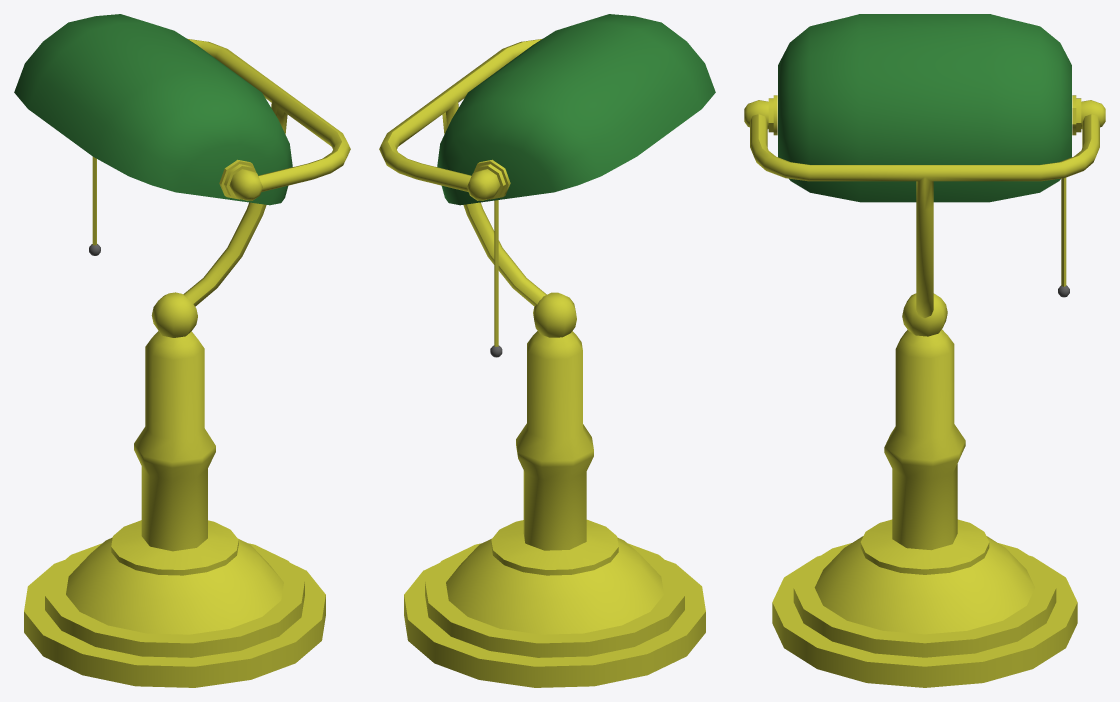
Rendered from lampara_mesa_low.fbx.
3 views of the same model, side by side, from view 1: azimuth 30°, elevation 25°; view 2: azimuth 150°, elevation 25°; view 3: azimuth 270°, elevation 25° (orthographic).
Visible parts, largest first — view 1: lampara_mesa_low; view 2: lampara_mesa_low; view 3: lampara_mesa_low.
Part boxes in pixels (box(x1,y1,x2,y2)): lampara_mesa_low: box(14, 14, 350, 687); lampara_mesa_low: box(379, 14, 715, 687); lampara_mesa_low: box(744, 14, 1105, 687).
Bounding box in the file's own units: 26.04 × 54.97 × 30.84.
